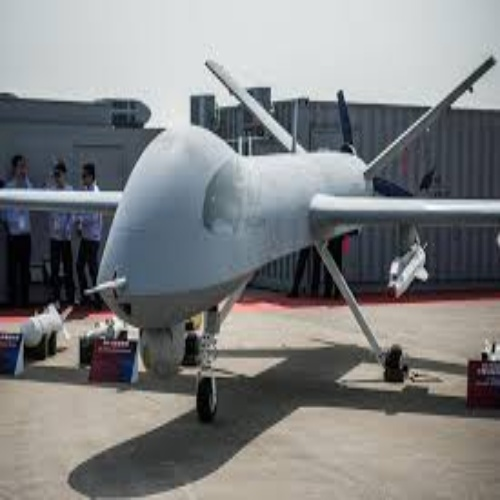uav: (1, 54, 500, 420)
